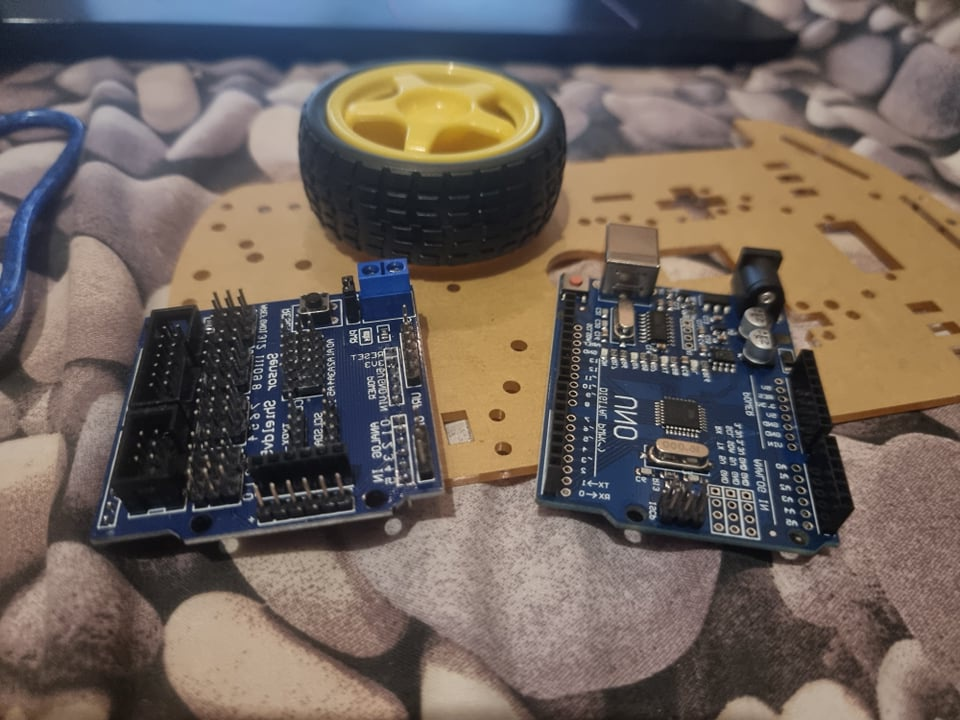5V EXPANSION: (92, 255, 445, 546)
UNO R3: (536, 224, 857, 556)
